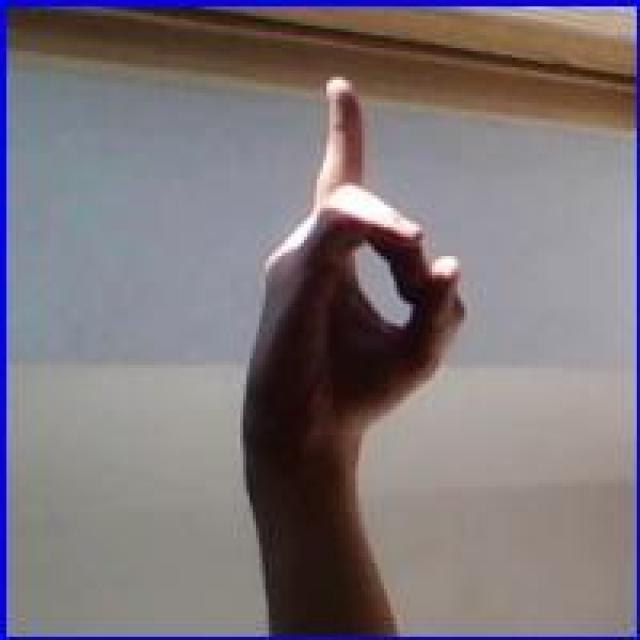D: (234, 72, 474, 533)
